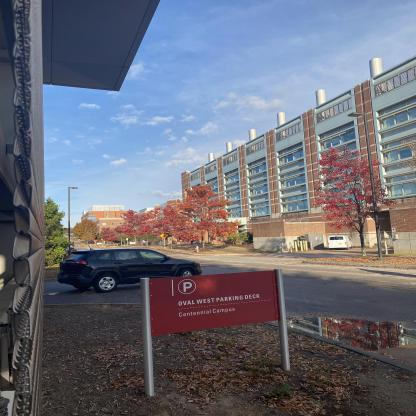EB-1: (185, 70, 415, 272)
